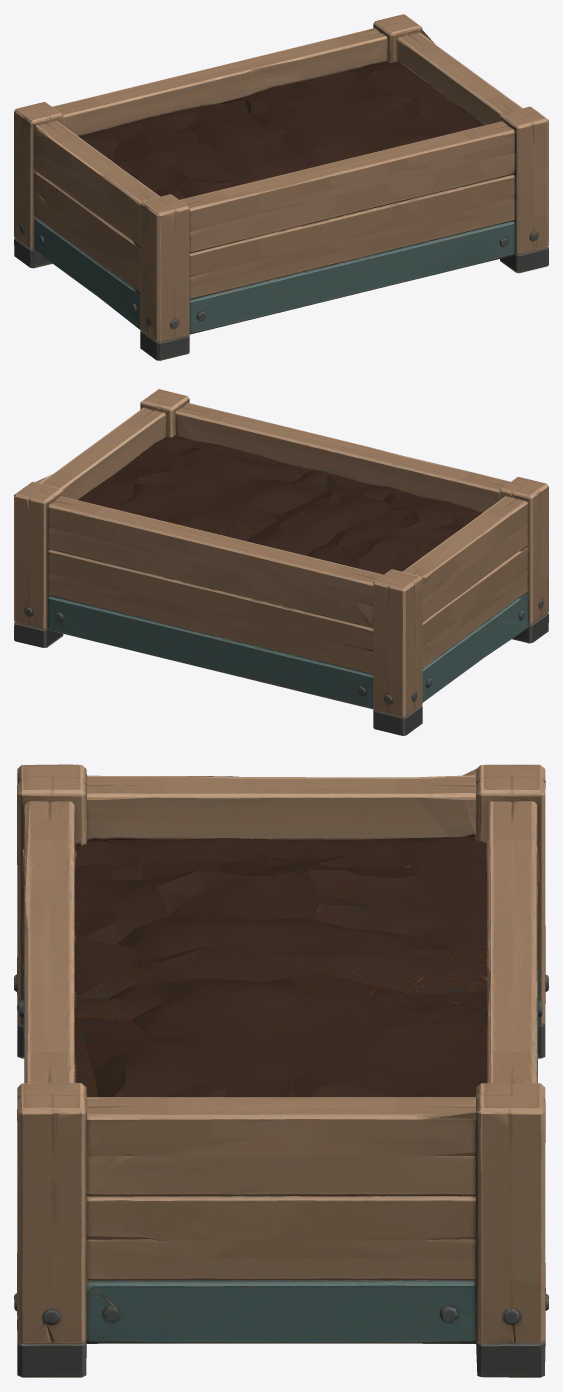
File: vegetableBed.glb
The picture shows the model from 3 angles, top to bottom: view 1: azimuth 30°, elevation 25°; view 2: azimuth 150°, elevation 25°; view 3: azimuth 270°, elevation 25°; orthographic projection. The views are drawn at different scales.
Visible parts, largest first — view 1: Mesh_0; view 2: Mesh_0; view 3: Mesh_0.
Part boxes in pixels (x1,y1,x2,y2): Mesh_0: [14, 14, 548, 360]; Mesh_0: [14, 389, 548, 735]; Mesh_0: [14, 764, 548, 1377].
Bounding box in the file's own units: 1.2 × 0.4305 × 0.7768.
Materials: 1 (1 with a texture image).
